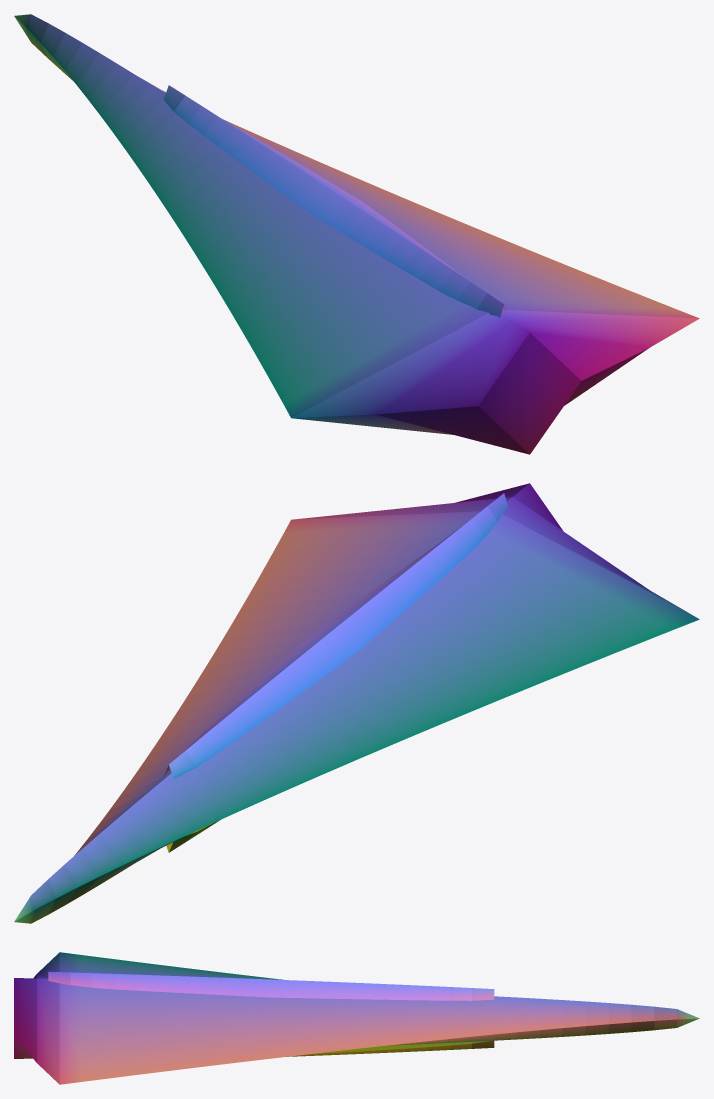
Rendered from SM_DragonDart.fbx.
3 views of the same model, one above another, from view 1: azimuth 30°, elevation 25°; view 2: azimuth 150°, elevation 25°; view 3: azimuth 270°, elevation 25° (orthographic). The views are drawn at different scales.
Parts seen in each view (by area): view 1: SM_DragonDart; view 2: SM_DragonDart; view 3: SM_DragonDart.
Part boxes in pixels (x1,y1,x2,y2): SM_DragonDart: (14, 14, 699, 454); SM_DragonDart: (14, 483, 699, 923); SM_DragonDart: (14, 952, 699, 1084).
Bounding box in the file's own units: 0.2379 × 0.0782 × 0.52.
